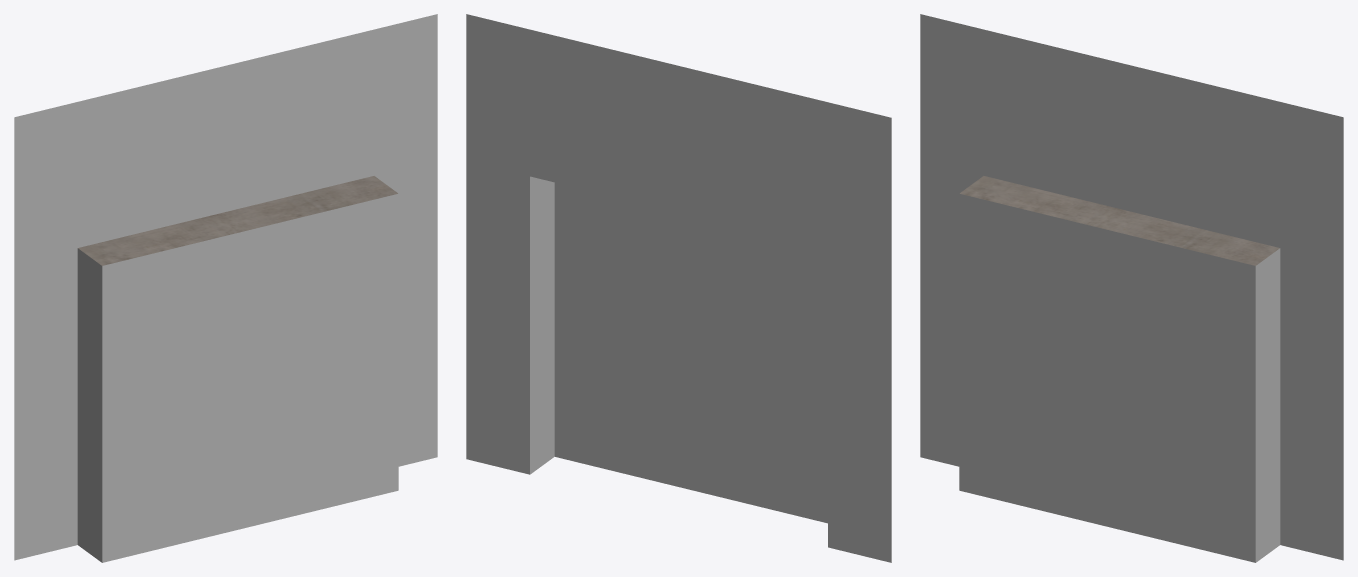
File: wallA_flatGarage.dae
3 renders of one model, left to right at view 1: azimuth 30°, elevation 25°; view 2: azimuth 150°, elevation 25°; view 3: azimuth 330°, elevation 25°, orthographic.
Parts seen in each view (by area): view 1: wallA_flatGarage; view 2: wallA_flatGarage; view 3: wallA_flatGarage.
Boxes of the visible parts, x1,y1,x2,y2 form: wallA_flatGarage: [14, 14, 437, 562]; wallA_flatGarage: [466, 14, 891, 562]; wallA_flatGarage: [920, 14, 1343, 562].
Size of the model in its own units: 1 by 1 by 0.1.
